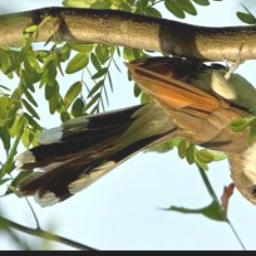Cuckoo: (13, 53, 256, 209)
